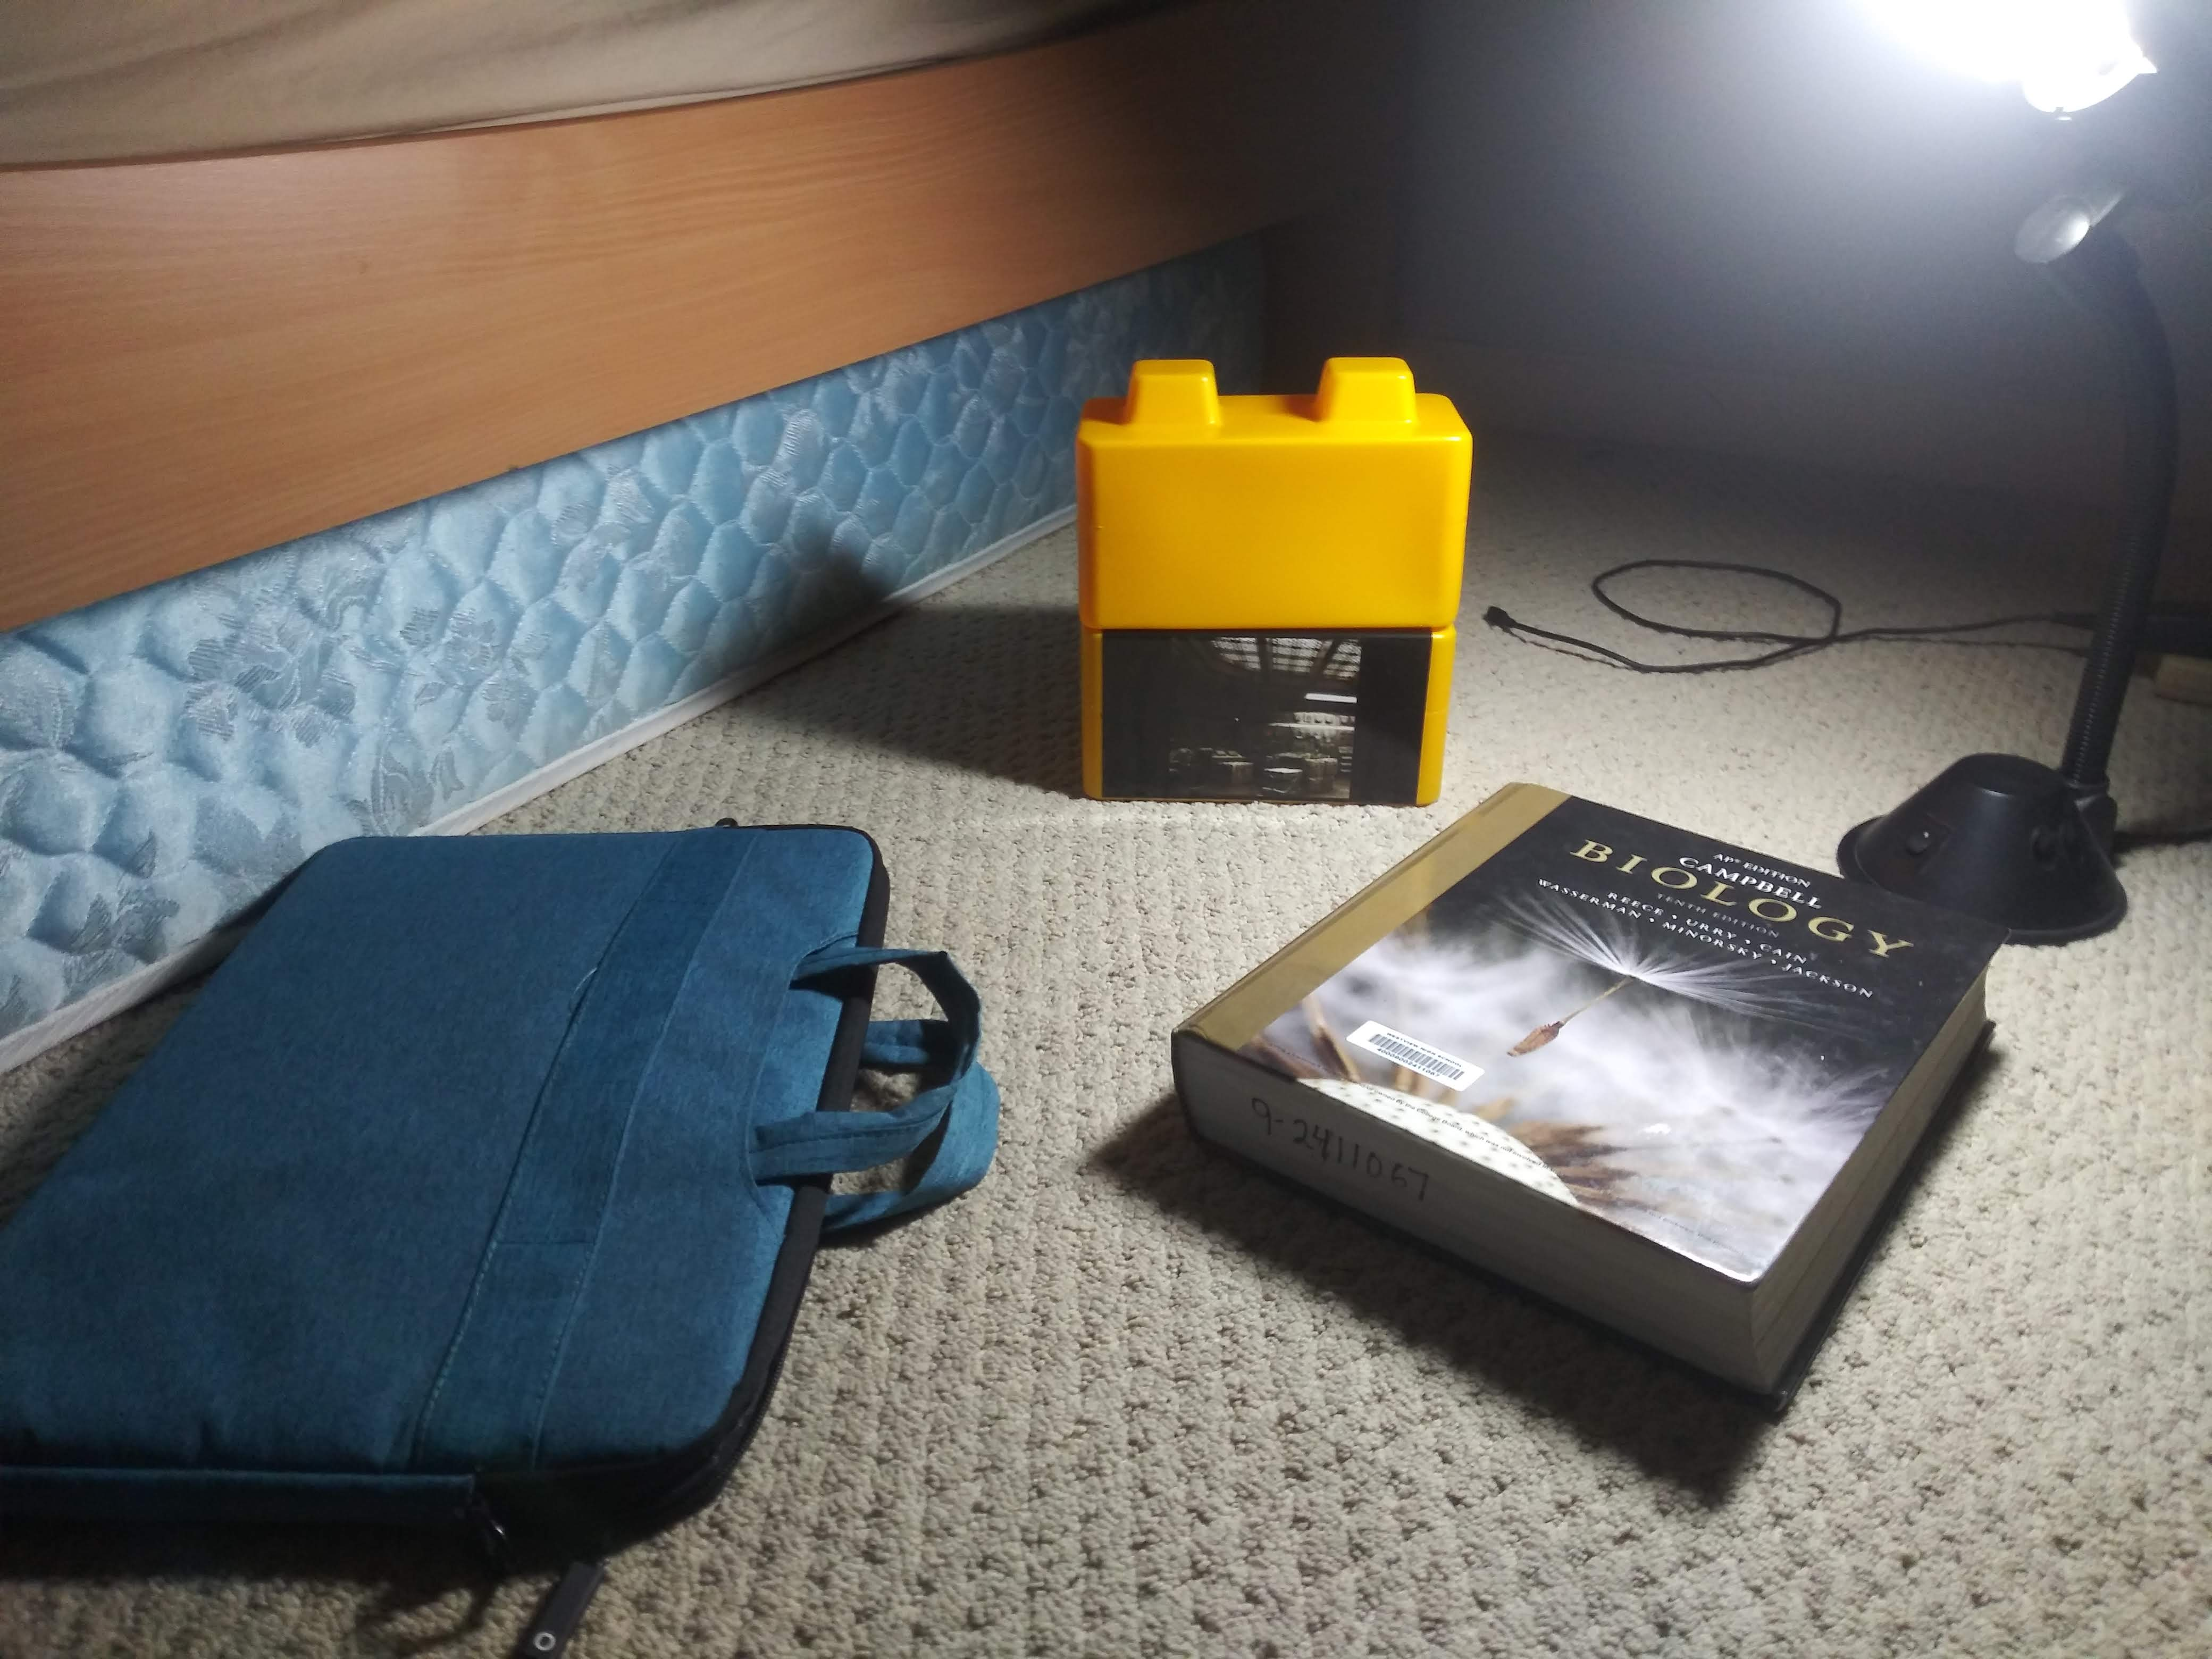skystone: (1080, 641, 1461, 807)
stone: (1080, 394, 1467, 624)
